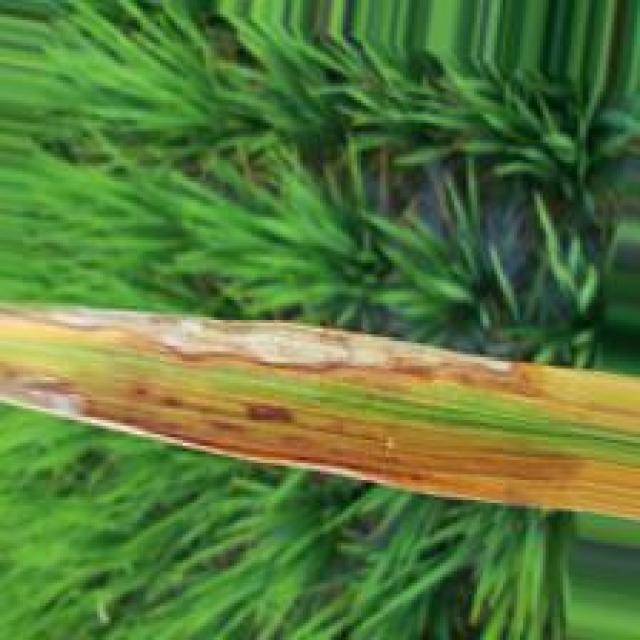Bacterial_Leaf_Blight: (0, 344, 640, 522), (0, 304, 640, 442)
